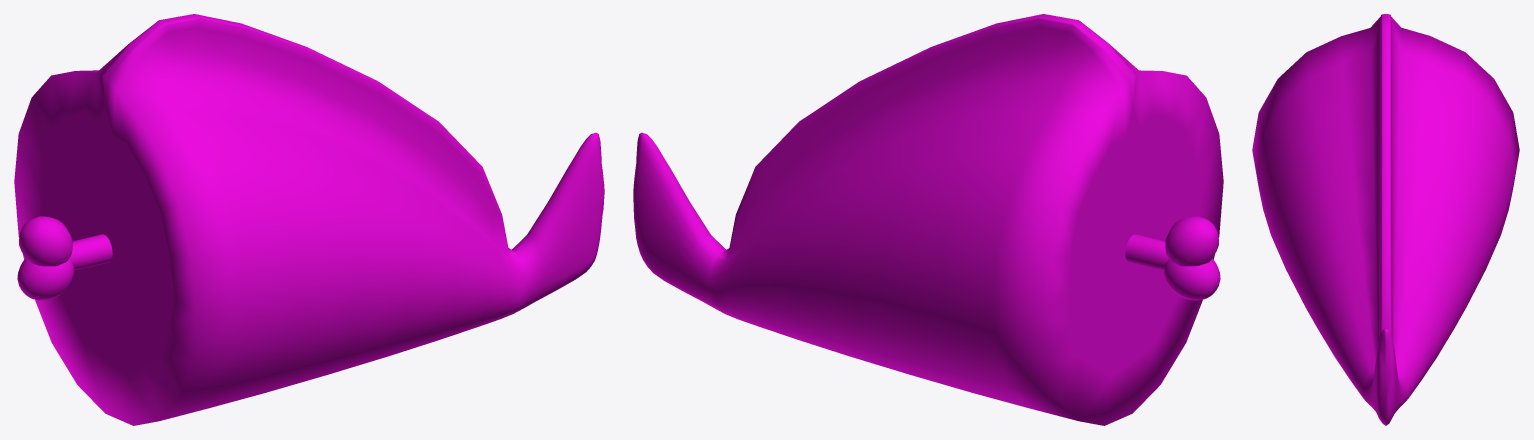
Rendered from fish.fbx.
The picture shows the model from 3 angles, left to right: view 1: azimuth 30°, elevation 25°; view 2: azimuth 150°, elevation 25°; view 3: azimuth 270°, elevation 25°; orthographic projection. The views are drawn at different scales.
Parts seen in each view (by area): view 1: polySurface121, polySurface123; view 2: polySurface121, polySurface123; view 3: polySurface121.
Boxes of the visible parts, x1,y1,x2,y2 form: polySurface121: [14, 14, 604, 425]; polySurface123: [17, 216, 112, 300]; polySurface121: [633, 14, 1223, 425]; polySurface123: [1125, 216, 1220, 300]; polySurface121: [1252, 14, 1519, 425].
Bounding box in the file's own units: 52.94 × 32.93 × 28.74.
